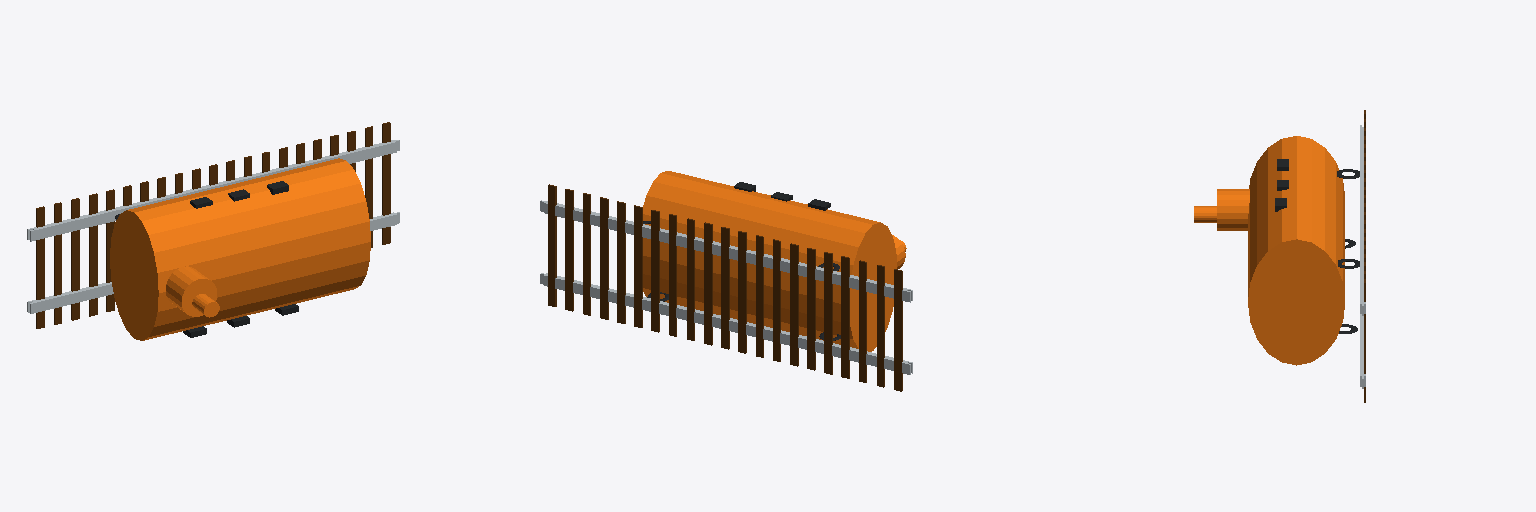
Rendered from tinker.obj.
3 views of the same model, side by side, from view 1: azimuth 30°, elevation 25°; view 2: azimuth 150°, elevation 25°; view 3: azimuth 270°, elevation 25° (orthographic).
Visible parts, largest first — view 1: obj_0; view 2: obj_0; view 3: obj_0.
Part boxes in pixels (bbox=[...]): obj_0: bbox=[27, 122, 399, 340]; obj_0: bbox=[540, 171, 912, 391]; obj_0: bbox=[1194, 110, 1365, 402].
Size of the model in its own units: 206 by 71 by 83.